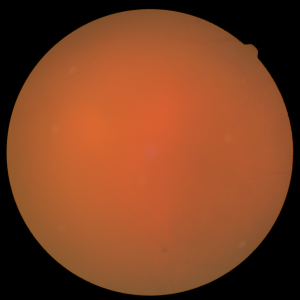cataract: (45, 98, 253, 207)
